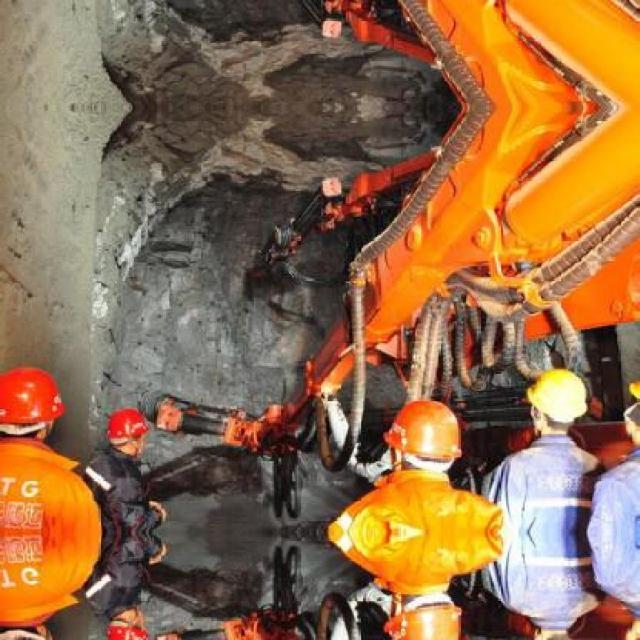helmet: (382, 395, 470, 479), (0, 359, 71, 447), (520, 366, 594, 434), (382, 583, 471, 639), (103, 406, 149, 456), (0, 615, 72, 638), (103, 608, 151, 638)
